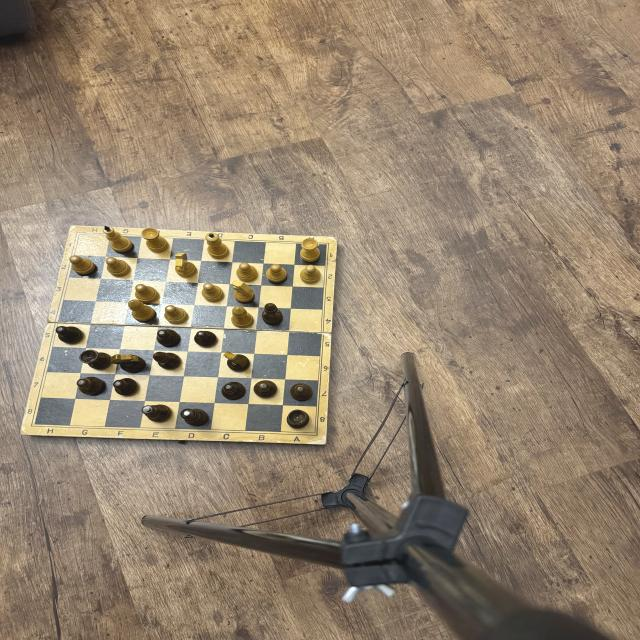black-bishop: (152, 352, 182, 369), (262, 303, 283, 325)
black-king: (140, 404, 172, 423)
black-knight: (110, 354, 146, 373), (223, 351, 251, 372)
black-pawn: (55, 326, 84, 345), (76, 377, 105, 395), (112, 378, 139, 397), (253, 380, 278, 399), (222, 381, 246, 400), (156, 329, 181, 346), (194, 330, 217, 348), (290, 383, 313, 401)
black-queen: (180, 408, 210, 427)
black-rook: (80, 350, 112, 370), (286, 409, 310, 428)
white-bishop: (127, 299, 156, 323), (231, 306, 254, 328)
white-king: (102, 225, 134, 253)
white-knight: (175, 252, 198, 278), (232, 280, 256, 304)
white-pawn: (69, 254, 97, 276), (164, 304, 189, 324), (134, 284, 160, 302), (106, 257, 130, 276), (236, 262, 258, 282), (266, 264, 288, 284), (300, 264, 321, 284), (202, 283, 224, 302)
white-queen: (205, 232, 229, 258)
white-rook: (142, 227, 170, 253), (300, 238, 320, 262)
